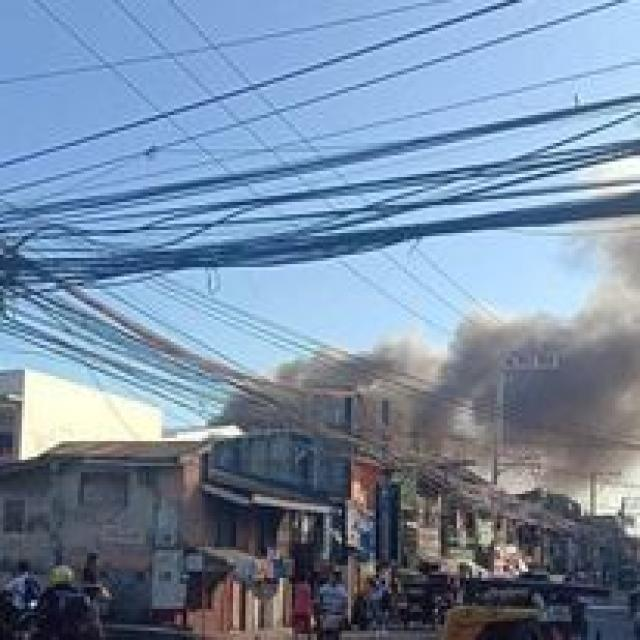Smoke: (504, 302, 640, 464), (377, 334, 527, 457)
